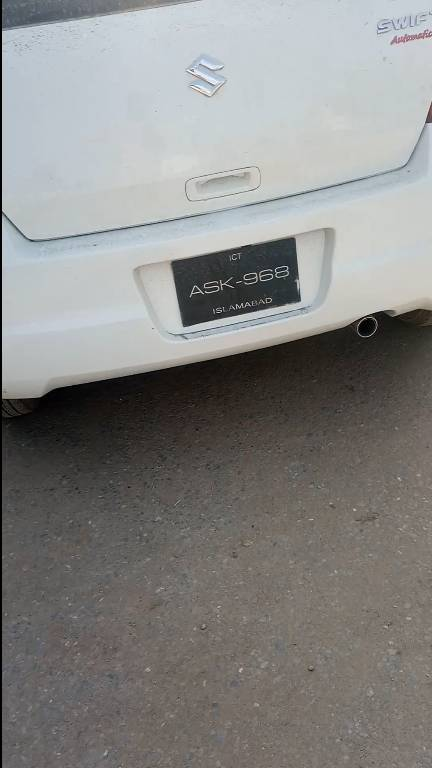number_plate: (171, 244, 317, 320)
